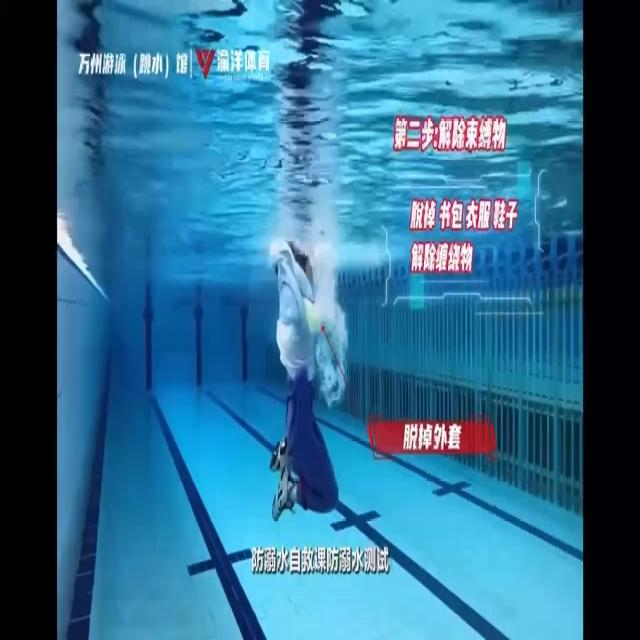Drowning: (268, 244, 346, 523)
